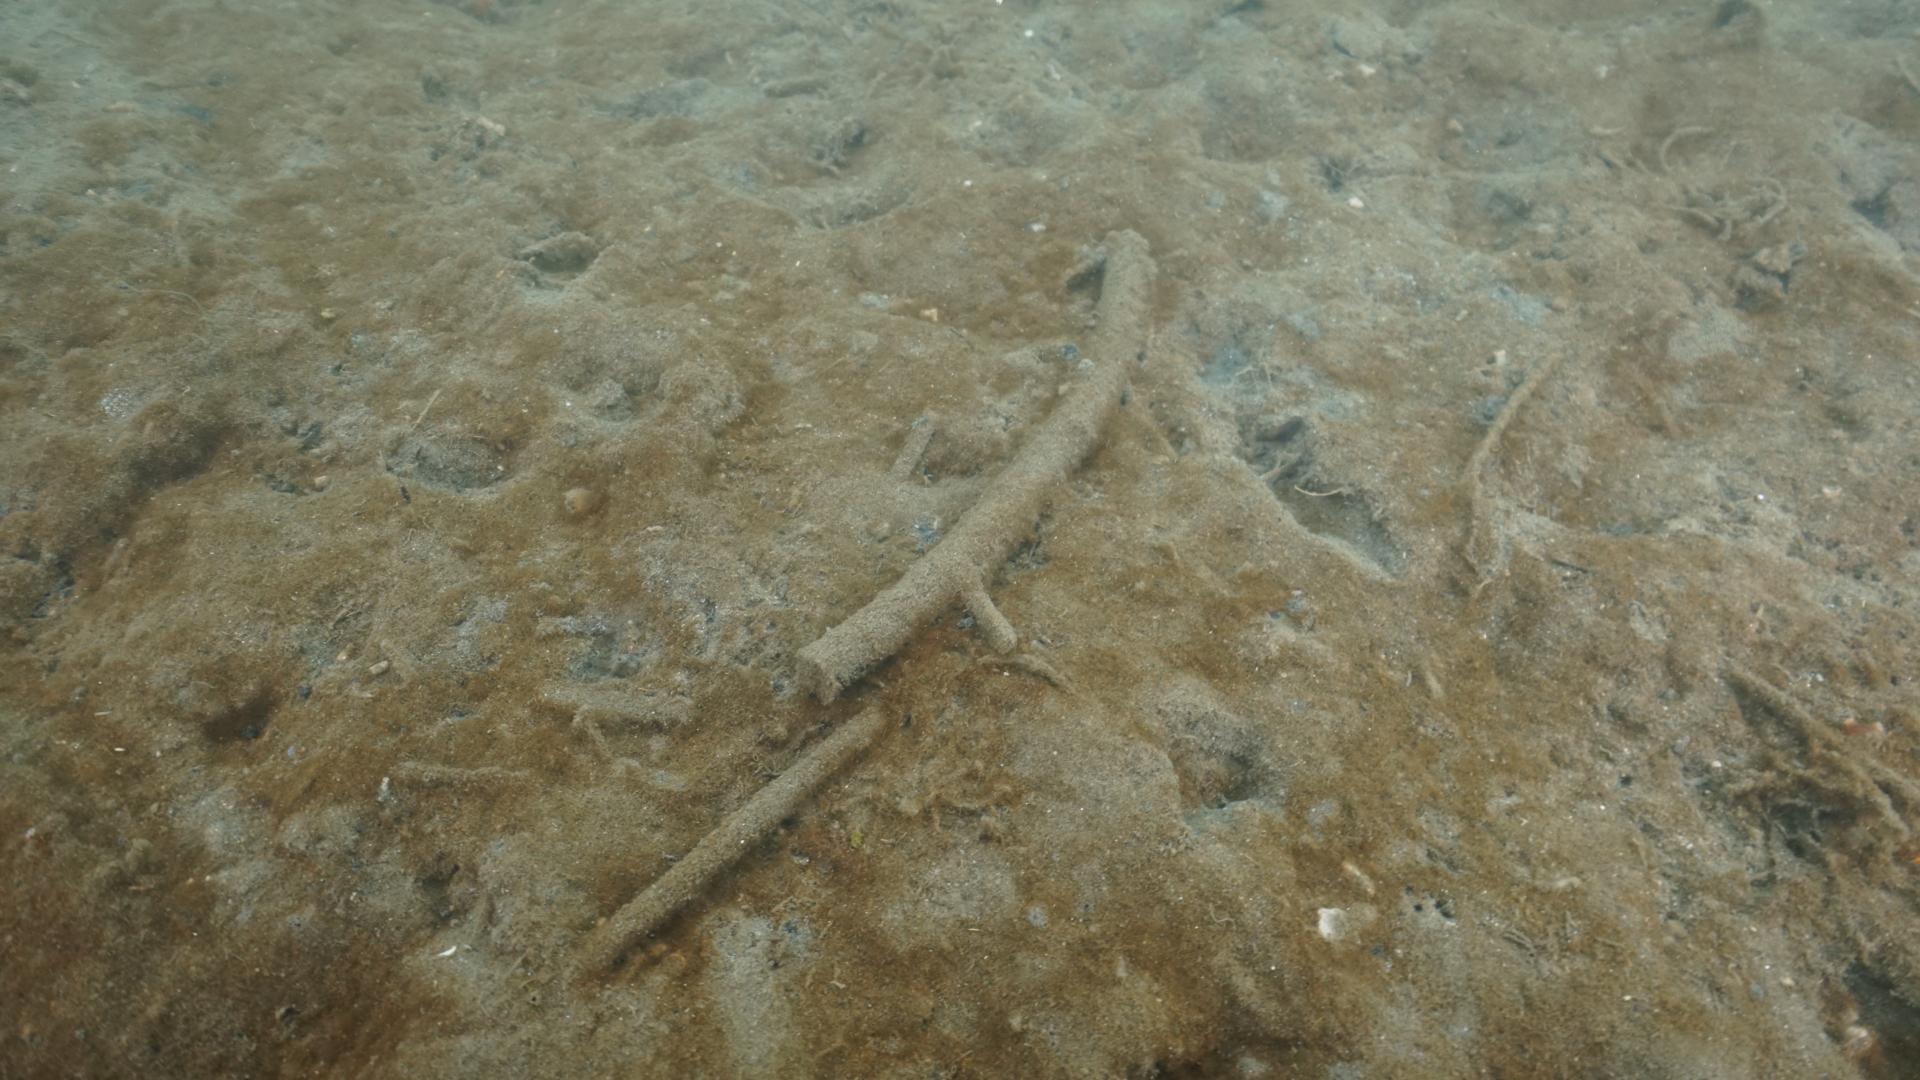wood: (793, 232, 1158, 703), (562, 712, 881, 986)
